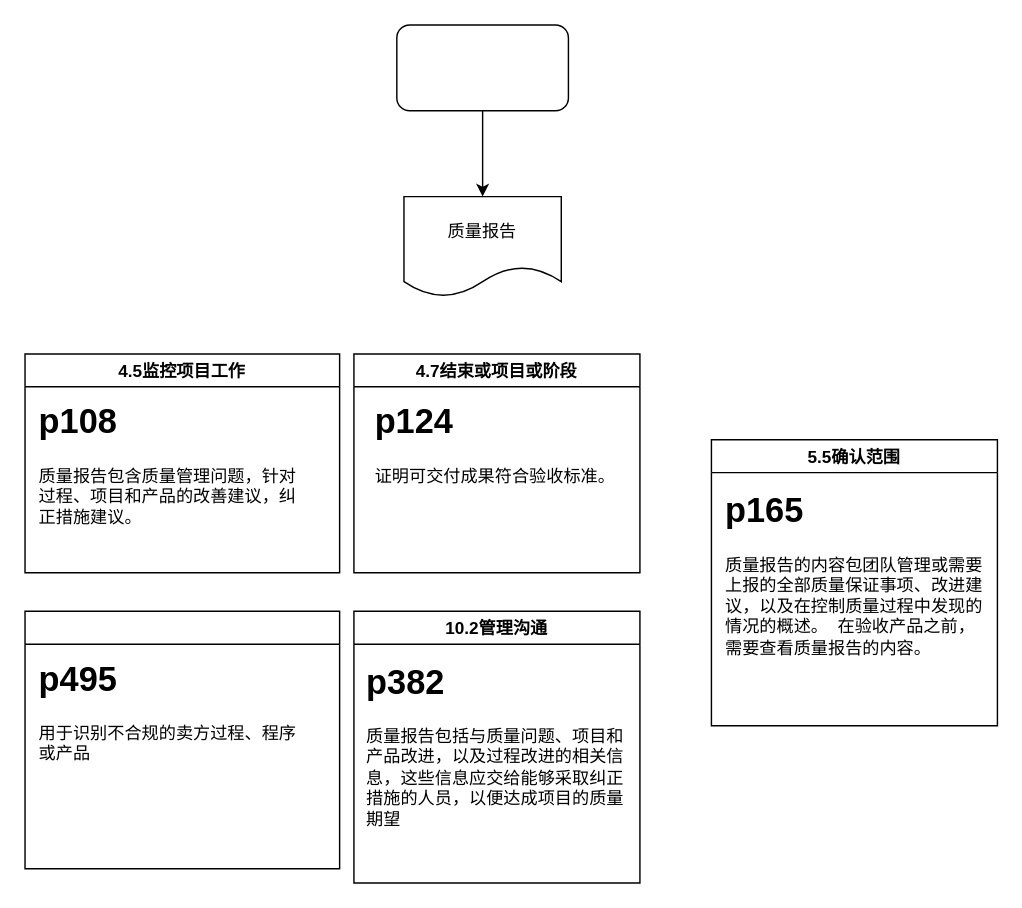
Image size: 1022x908. Some labels were removed from this diagram. Each missing label, with the box of its shape:
12.3控制采购: (24, 610, 340, 869)
8.2质量管理: (395, 24, 568, 111)
